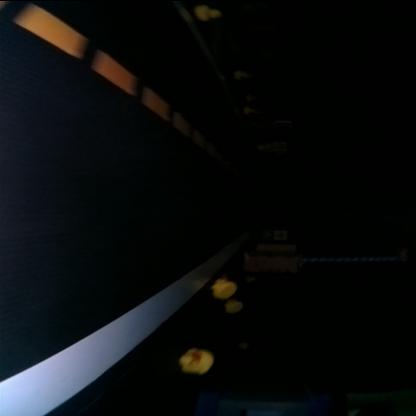Duckie: (180, 348, 214, 372), (214, 276, 238, 298), (196, 4, 221, 19), (224, 299, 247, 311), (235, 68, 251, 76), (244, 106, 258, 112)
